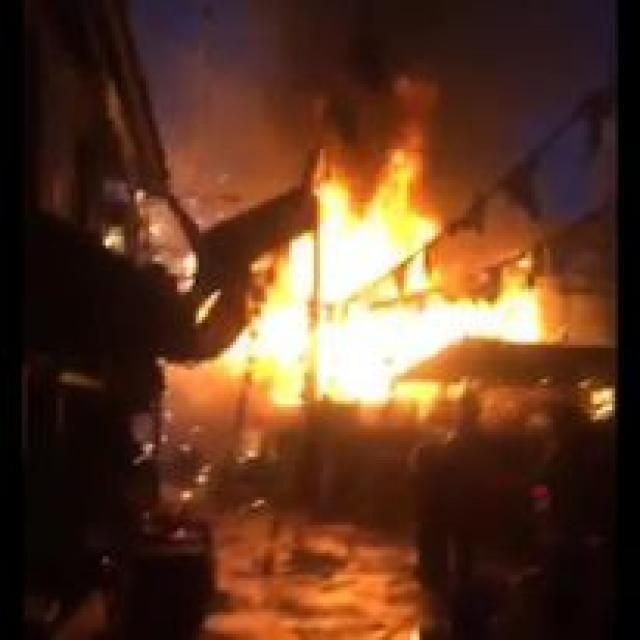Fire: (222, 133, 560, 406)
Smoke: (224, 0, 573, 200)
